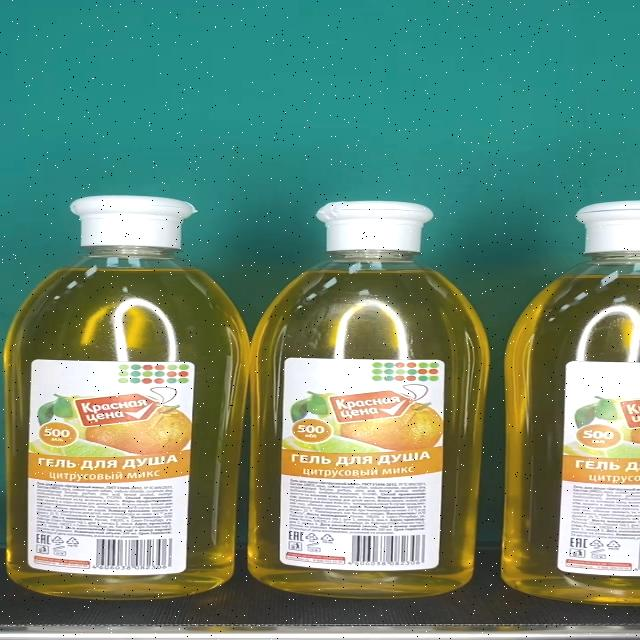Bottle: (5, 195, 254, 600), (249, 201, 492, 601)
Cap: (68, 196, 195, 249), (315, 201, 434, 251)
